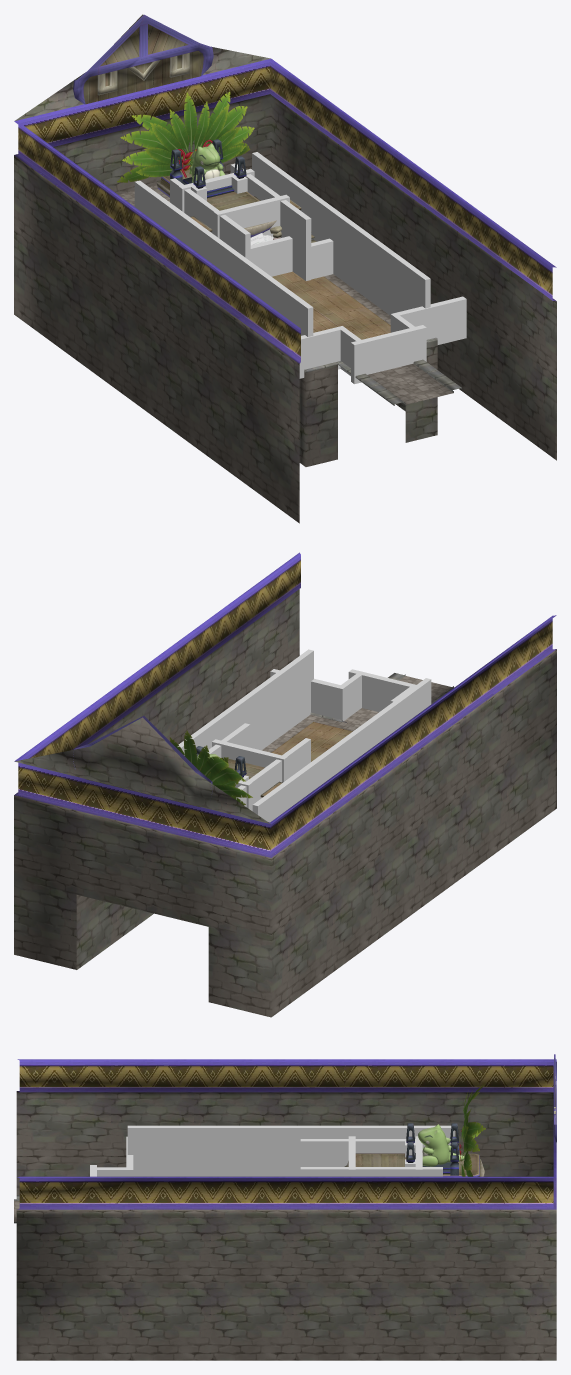
Rendered from CvTrial.opt.glb.
3 views of the same model, one above another, from view 1: azimuth 30°, elevation 25°; view 2: azimuth 150°, elevation 25°; view 3: azimuth 270°, elevation 25° (orthographic). The views are drawn at different scales.
Parts seen in each view (by area): view 1: Scene, COLL_All7, COLL_All6, COLL_All1, COLL_All15, COLL_All2, COLL_All16, COLL_All11, COLL_All3, COLL_All8, COLL_All9, COLL_All12; view 2: Scene, COLL_All7, COLL_All6, COLL_All16, COLL_All1, COLL_All2, COLL_All11, COLL_All4, COLL_All15; view 3: Scene, COLL_All6, COLL_All16, COLL_All15.
Boxes of the visible parts, box(x1,y1,x2,y2) form: Scene: box(14, 14, 556, 523); COLL_All7: box(252, 152, 430, 315); COLL_All6: box(134, 180, 313, 336); COLL_All1: box(351, 325, 426, 384); COLL_All15: box(230, 163, 311, 280); COLL_All2: box(390, 296, 466, 344); COLL_All16: box(170, 178, 250, 260); COLL_All11: box(214, 194, 289, 238); COLL_All3: box(299, 326, 345, 378); COLL_All8: box(250, 236, 292, 276); COLL_All9: box(311, 238, 333, 279); COLL_All12: box(178, 168, 254, 212); Scene: box(14, 552, 556, 1017); COLL_All7: box(177, 649, 313, 756); COLL_All6: box(252, 678, 431, 822); COLL_All16: box(236, 738, 310, 810); COLL_All1: box(348, 669, 415, 711); COLL_All2: box(270, 669, 345, 721); COLL_All11: box(212, 739, 287, 782); COLL_All4: box(339, 673, 361, 720); COLL_All15: box(207, 723, 250, 758); Scene: box(14, 1054, 556, 1360); COLL_All6: box(127, 1125, 455, 1176); COLL_All16: box(300, 1139, 424, 1166); COLL_All15: box(300, 1167, 442, 1176).
Size of the model in its own units: 30.39 by 30.45 by 58.73.
Materials: 12 (12 with a texture image).
